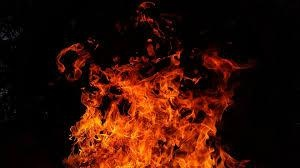fire: (72, 14, 237, 168)
